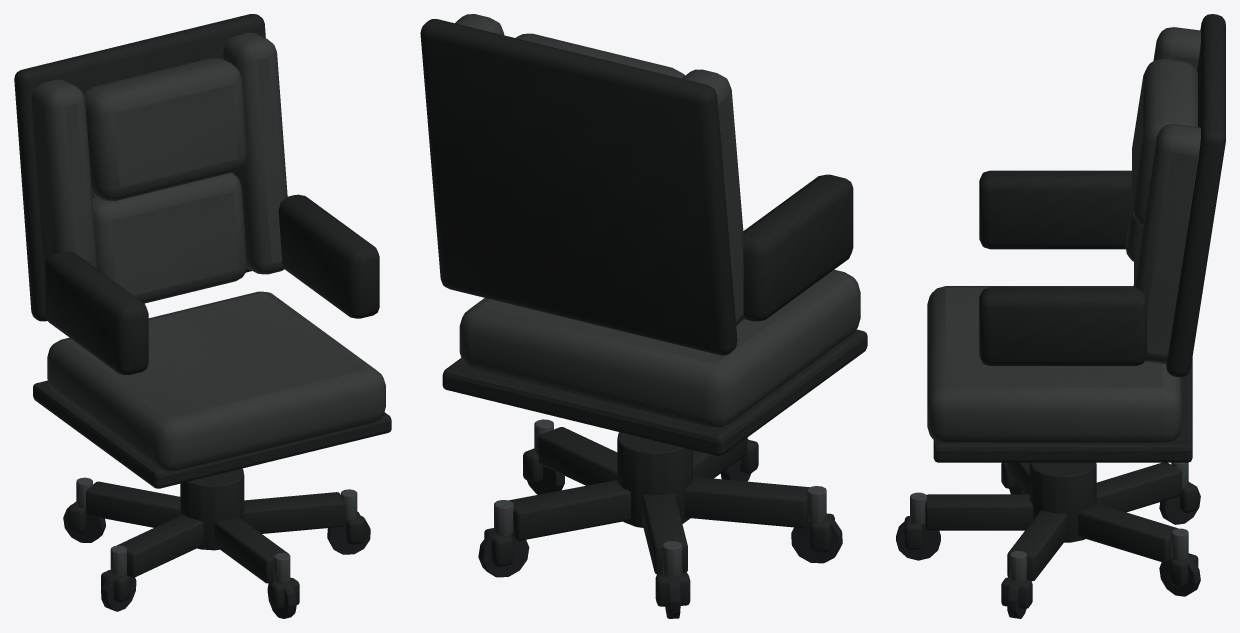
File: chair_standard_lod1.glb
The picture shows the model from 3 angles, left to right: view 1: azimuth 30°, elevation 25°; view 2: azimuth 150°, elevation 25°; view 3: azimuth 270°, elevation 25°; orthographic projection. The views are drawn at different scales.
Parts seen in each view (by area): view 1: OfficeLeather_LOD1, OfficePlastic_LOD1, OfficeMetal_LOD1, OfficeCasterRubberSet_LOD1; view 2: OfficePlastic_LOD1, OfficeLeather_LOD1, OfficeMetal_LOD1, OfficeCasterRubberSet_LOD1; view 3: OfficePlastic_LOD1, OfficeLeather_LOD1, OfficeMetal_LOD1, OfficeCasterRubberSet_LOD1.
Part boxes in pixels (box(x1,y1,x2,y2)): OfficeLeather_LOD1: box(31, 32, 385, 471); OfficePlastic_LOD1: box(14, 14, 391, 583); OfficeMetal_LOD1: box(68, 477, 364, 609); OfficeCasterRubberSet_LOD1: box(63, 502, 370, 618); OfficePlastic_LOD1: box(420, 19, 867, 574); OfficeLeather_LOD1: box(455, 14, 860, 427); OfficeMetal_LOD1: box(484, 419, 834, 606); OfficeCasterRubberSet_LOD1: box(478, 439, 842, 618); OfficePlastic_LOD1: box(925, 14, 1225, 581); OfficeLeather_LOD1: box(927, 27, 1200, 442); OfficeMetal_LOD1: box(904, 462, 1198, 608); OfficeCasterRubberSet_LOD1: box(896, 481, 1200, 618).
Size of the model in its own units: 0.6479 by 1.09 by 0.6689.
Materials: 4 (2 with a texture image).
